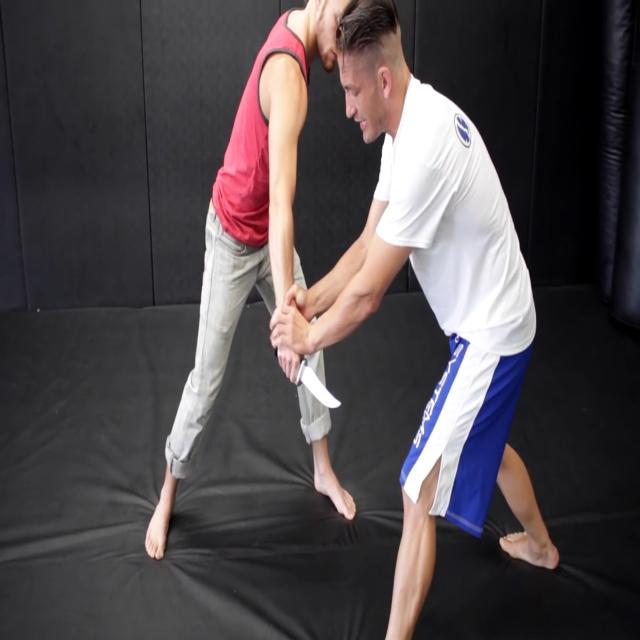knife: (296, 361, 347, 413)
